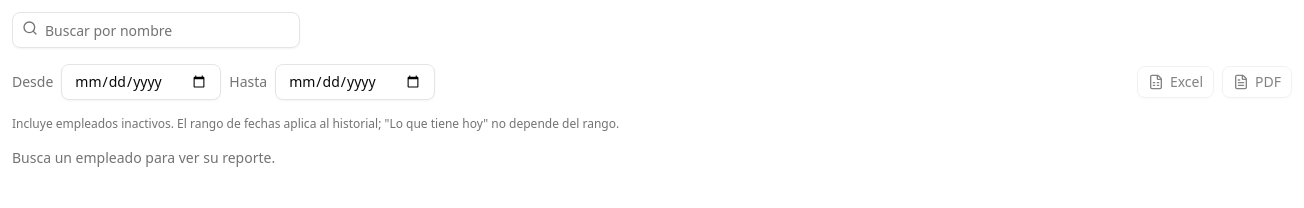
Test case: EmployeeReportTab (008 US2, RN-022, RN-033) › avisa si falla la búsqueda de empleados
The image size is (1304, 208).
Type "Ana" into the search field named "Buscar empleado" at (156, 30), box [12,12,300,48]
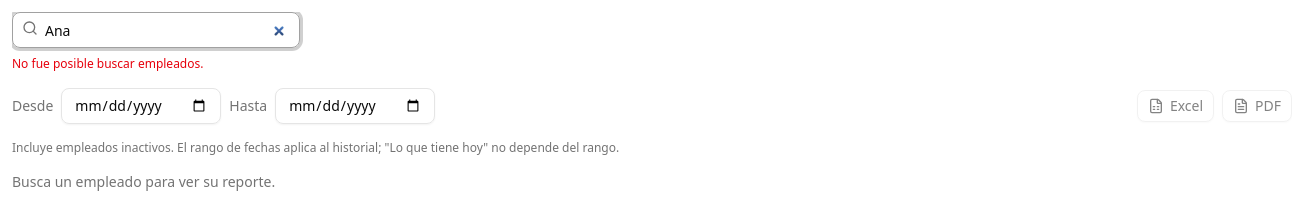
Expected: the message reads "No fue posible buscar empleados.", [12,55,204,72]
